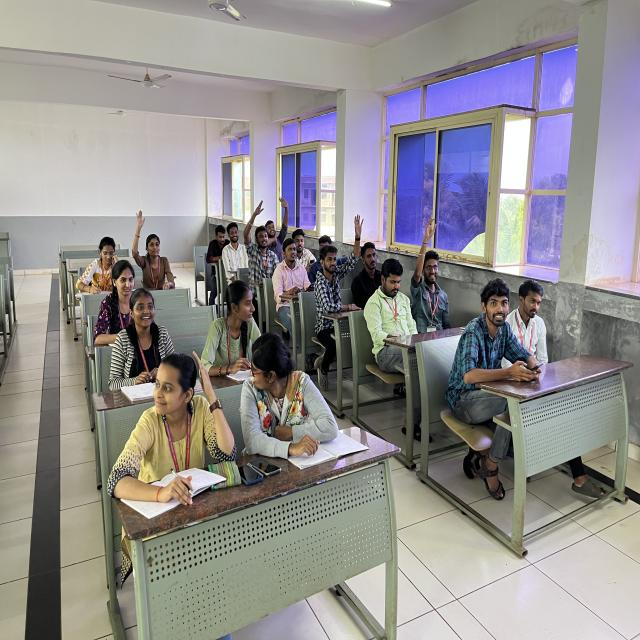Hand Rising: (409, 210, 452, 320), (131, 204, 181, 290), (315, 208, 363, 294), (241, 197, 276, 268), (264, 190, 291, 244)
Using Phone: (442, 279, 542, 410), (370, 253, 420, 361), (274, 236, 318, 324), (285, 225, 320, 276), (206, 222, 231, 282)
Writing: (77, 234, 123, 298)
